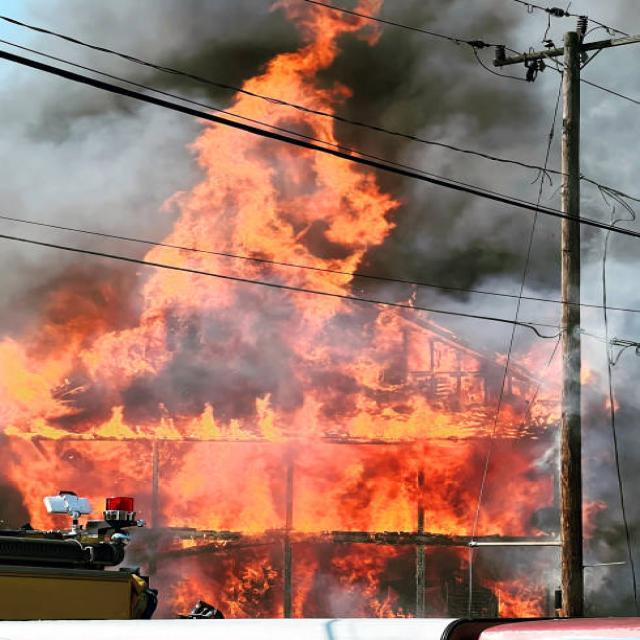Fire: (0, 247, 562, 624), (122, 0, 390, 338)
Smoke: (346, 0, 594, 302), (66, 0, 292, 132), (544, 344, 640, 614)
